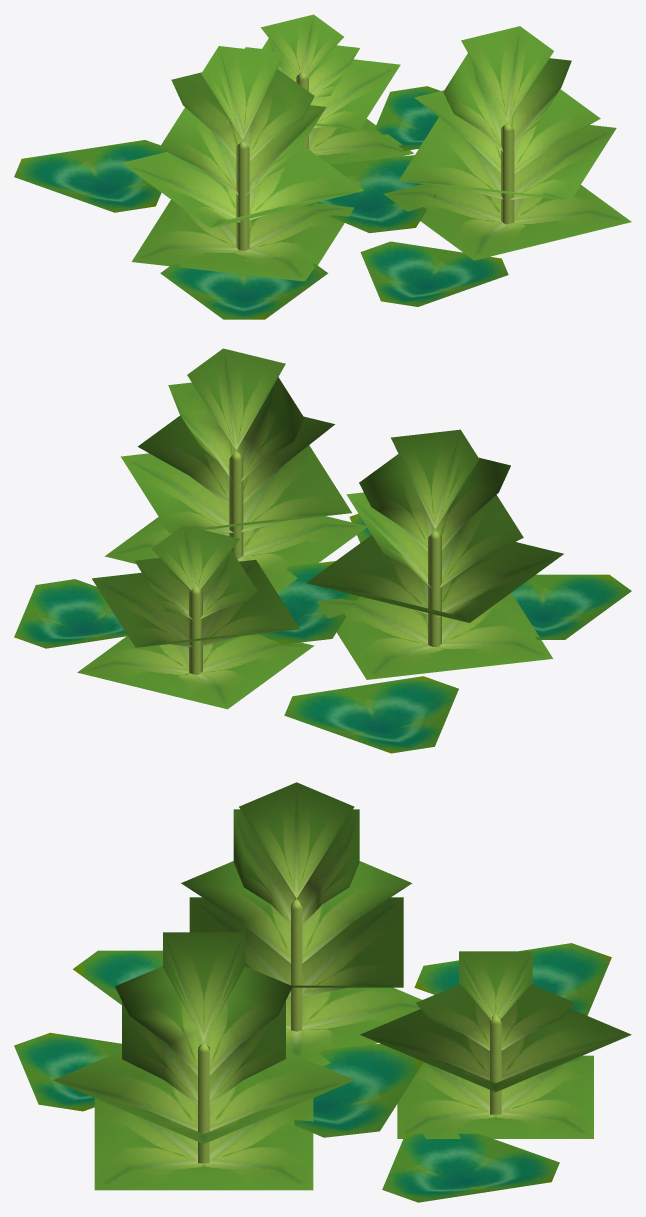
File: PltWeedSpr2A.glb
3 views of the same model, one above another, from view 1: azimuth 30°, elevation 25°; view 2: azimuth 150°, elevation 25°; view 3: azimuth 270°, elevation 25° (orthographic). The views are drawn at different scales.
Visible parts, largest first — view 1: pCylinder1_1__mWeedTall, pCylinder2__mClover; view 2: pCylinder1_1__mWeedTall, pCylinder2__mClover; view 3: pCylinder1_1__mWeedTall, pCylinder2__mClover.
Boxes of the visible parts, <box> form: pCylinder1_1__mWeedTall: <box>121,14,631,281</box>; pCylinder2__mClover: <box>14,86,508,319</box>; pCylinder1_1__mWeedTall: <box>77,348,563,709</box>; pCylinder2__mClover: <box>14,513,631,753</box>; pCylinder1_1__mWeedTall: <box>53,782,631,1190</box>; pCylinder2__mClover: <box>14,943,611,1202</box>.
Size of the model in its own units: 10.26 by 4.07 by 10.18.
Materials: 2 (2 with a texture image).
